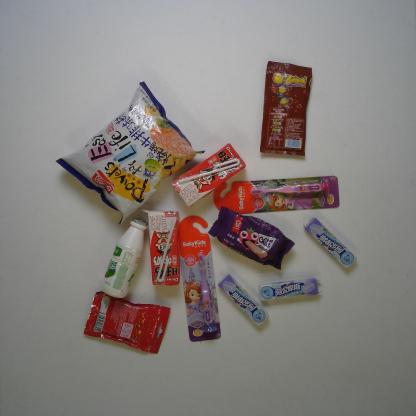Candy: (83, 290, 171, 354), (259, 60, 313, 156), (217, 272, 269, 328), (303, 218, 356, 268), (258, 278, 323, 302)
Dessert: (206, 205, 295, 271)
Milk: (171, 142, 246, 209), (100, 216, 148, 300), (140, 206, 180, 287)
Personal Hygiene: (177, 215, 222, 342), (212, 175, 340, 215)
Puffed Food: (54, 80, 206, 227)
